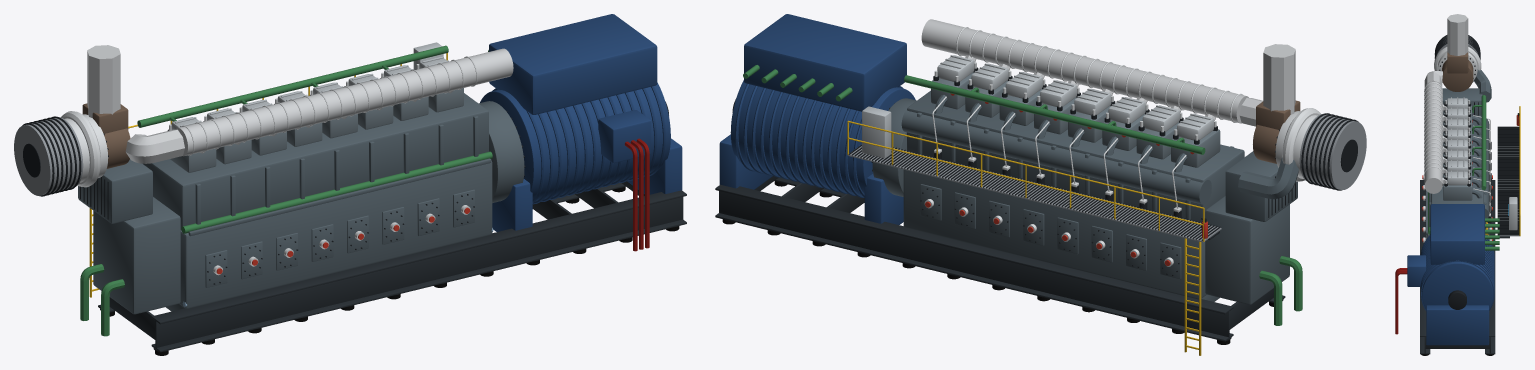
Rendered from genset.glb.
3 renders of one model, left to right at view 1: azimuth 30°, elevation 25°; view 2: azimuth 150°, elevation 25°; view 3: azimuth 270°, elevation 25°, orthographic. The views are drawn at different scales.
Visible parts, largest first — view 1: block, alt, mounts, exh, cac, turbo, doors, heads, pipes, coupling, rocker, gallery; view 2: alt, block, mounts, exh, cac, gallery, fpump, turbo, heads, rocker, doors, pipes (+1 smaller); view 3: alt, exh, gallery, rocker, turbo, mounts, heads, fpump, block, cac, pipes, doors.
Boxes of the visible parts, left/top/right/bottom form: block: left=143, top=93, right=492, bottom=311; alt: left=480, top=14, right=682, bottom=251; mounts: left=98, top=181, right=686, bottom=355; exh: left=87, top=45, right=513, bottom=163; cac: left=78, top=159, right=180, bottom=336; turbo: left=14, top=103, right=130, bottom=196; doors: left=205, top=189, right=474, bottom=287; heads: left=167, top=64, right=463, bottom=172; pipes: left=137, top=45, right=493, bottom=307; coupling: left=479, top=101, right=525, bottom=202; rocker: left=171, top=56, right=449, bottom=129; gallery: left=89, top=42, right=447, bottom=297; alt: left=719, top=14, right=915, bottom=224; block: left=903, top=90, right=1244, bottom=301; mounts: left=715, top=176, right=1285, bottom=344; exh: left=921, top=19, right=1295, bottom=126; cac: left=1205, top=151, right=1302, bottom=325; gallery: left=847, top=106, right=1221, bottom=355; fpump: left=901, top=94, right=1211, bottom=217; turbo: left=1253, top=100, right=1366, bottom=190; heads: left=931, top=62, right=1220, bottom=167; rocker: left=937, top=55, right=1213, bottom=140; doors: left=920, top=184, right=1181, bottom=279; pipes: left=904, top=75, right=1205, bottom=154; alt: left=1395, top=204, right=1499, bottom=345; exh: left=1424, top=14, right=1468, bottom=193; gallery: left=1497, top=106, right=1520, bottom=238; rocker: left=1447, top=97, right=1468, bottom=185; turbo: left=1434, top=35, right=1481, bottom=91; mounts: left=1420, top=180, right=1495, bottom=355; heads: left=1443, top=100, right=1472, bottom=200; fpump: left=1472, top=115, right=1491, bottom=235; block: left=1425, top=115, right=1489, bottom=237; cac: left=1442, top=69, right=1491, bottom=115; pipes: left=1428, top=95, right=1486, bottom=234; doors: left=1422, top=174, right=1492, bottom=242.
Size of the model in its own units: 21.04 by 9.22 by 5.97.
